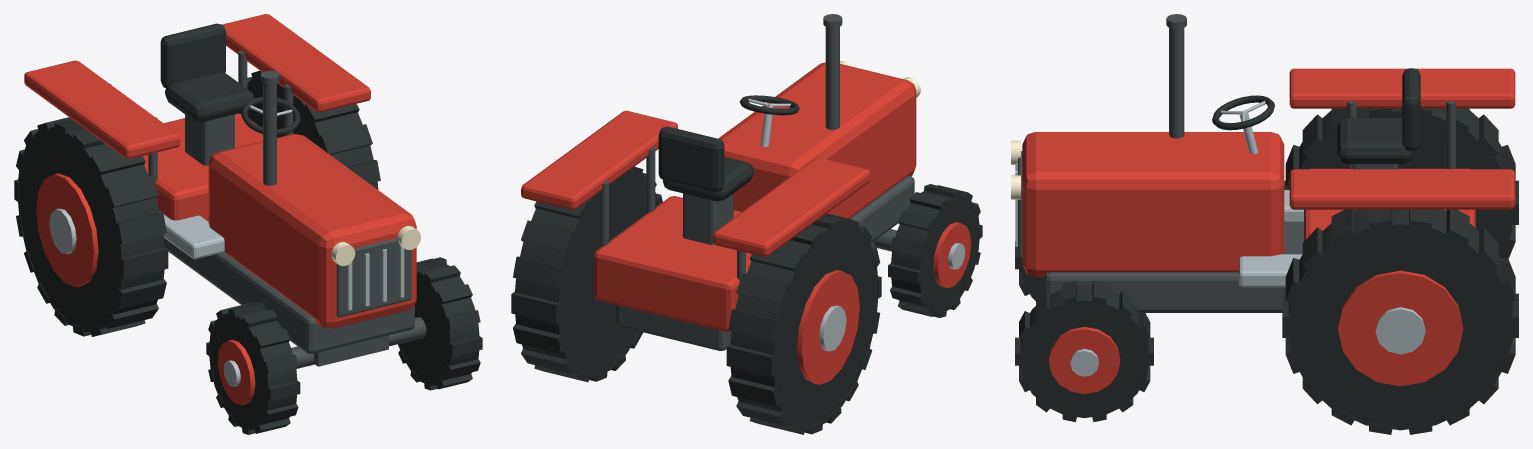
Rendered from tractor_classic.glb.
The picture shows the model from 3 angles, left to right: view 1: azimuth 30°, elevation 25°; view 2: azimuth 150°, elevation 25°; view 3: azimuth 270°, elevation 25°; orthographic projection. The views are drawn at different scales.
Visible parts, largest first — view 1: Classic tractor red engine hood, Classic tractor wheel tire.002, Classic tractor rear fender, Classic tractor rear fender.001, Classic tractor chassis, Classic tractor wheel tire.001, Classic tractor wheel tire, Classic tractor wheel rim.002, Classic tractor rear body, Classic tractor dark front grille, Classic tractor seat back, Classic tractor padded seat (+26 smaller); view 2: Classic tractor red engine hood, Classic tractor wheel tire.002, Classic tractor rear body, Classic tractor wheel tire.003, Classic tractor rear fender, Classic tractor rear fender.001, Classic tractor wheel tire, Classic tractor wheel rim.002, Classic tractor chassis, Classic tractor seat back, Classic tractor seat pedestal, Classic tractor wheel rim (+21 smaller); view 3: Classic tractor red engine hood, Classic tractor wheel tire.003, Classic tractor wheel rim.003, Classic tractor rear fender.001, Classic tractor wheel tire.001, Classic tractor rear fender, Classic tractor chassis, Classic tractor wheel tire.002, Classic tractor wheel rim.001, Classic tractor padded seat, Classic tractor wheel center hub.003, Classic tractor exhaust stack (+16 smaller).
Part boxes in pixels (<box>): Classic tractor red engine hood: <box>208,134,416,328</box>; Classic tractor wheel tire.002: <box>18,126,164,332</box>; Classic tractor rear fender: <box>24,60,179,158</box>; Classic tractor rear fender.001: <box>222,14,370,112</box>; Classic tractor chassis: <box>164,238,414,353</box>; Classic tractor wheel tire.001: <box>398,264,479,385</box>; Classic tractor wheel tire: <box>209,309,297,430</box>; Classic tractor wheel rim.002: <box>36,173,98,287</box>; Classic tractor rear body: <box>143,113,262,221</box>; Classic tractor dark front grille: <box>336,238,411,317</box>; Classic tractor seat back: <box>160,23,225,88</box>; Classic tractor padded seat: <box>165,72,254,122</box>; Classic tractor red engine hood: <box>718,62,916,218</box>; Classic tractor wheel tire.002: <box>730,223,878,429</box>; Classic tractor rear body: <box>594,196,751,331</box>; Classic tractor wheel tire.003: <box>515,171,657,377</box>; Classic tractor rear fender: <box>713,157,870,256</box>; Classic tractor rear fender.001: <box>521,110,677,209</box>; Classic tractor wheel tire: <box>891,191,979,313</box>; Classic tractor wheel rim.002: <box>797,270,859,384</box>; Classic tractor chassis: <box>616,176,914,350</box>; Classic tractor seat back: <box>658,126,724,192</box>; Classic tractor seat pedestal: <box>683,193,733,244</box>; Classic tractor wheel rim: <box>933,222,971,288</box>; Classic tractor red engine hood: <box>1022,132,1284,277</box>; Classic tractor wheel tire.003: <box>1288,209,1512,430</box>; Classic tractor wheel rim.003: <box>1338,270,1463,386</box>; Classic tractor rear fender.001: <box>1289,169,1515,209</box>; Classic tractor wheel tire.001: <box>1020,285,1148,417</box>; Classic tractor rear fender: <box>1289,68,1515,108</box>; Classic tractor chassis: <box>1045,223,1303,312</box>; Classic tractor wheel tire.002: <box>1288,108,1512,255</box>; Classic tractor wheel rim.001: <box>1049,327,1120,393</box>; Classic tractor padded seat: <box>1337,117,1413,163</box>; Classic tractor wheel center hub.003: <box>1375,307,1425,354</box>; Classic tractor exhaust stack: <box>1169,27,1184,138</box>.
Size of the model in its own units: 1.9 by 2.03 by 2.81.
